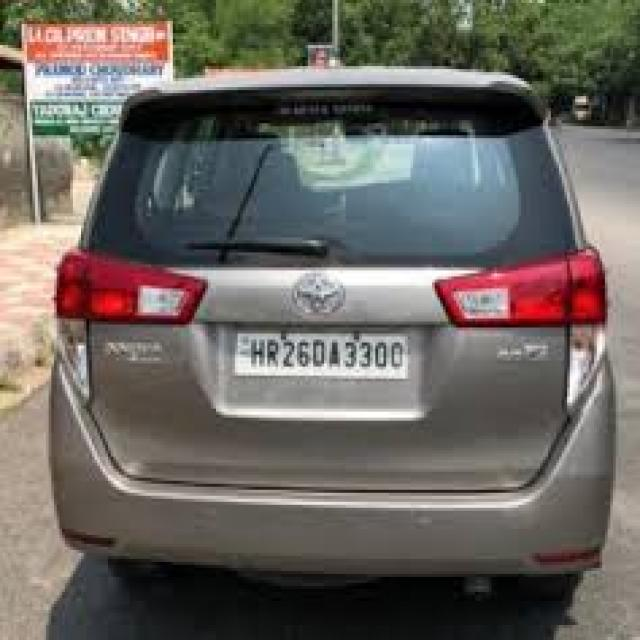light_vehicle: (50, 68, 617, 576)
